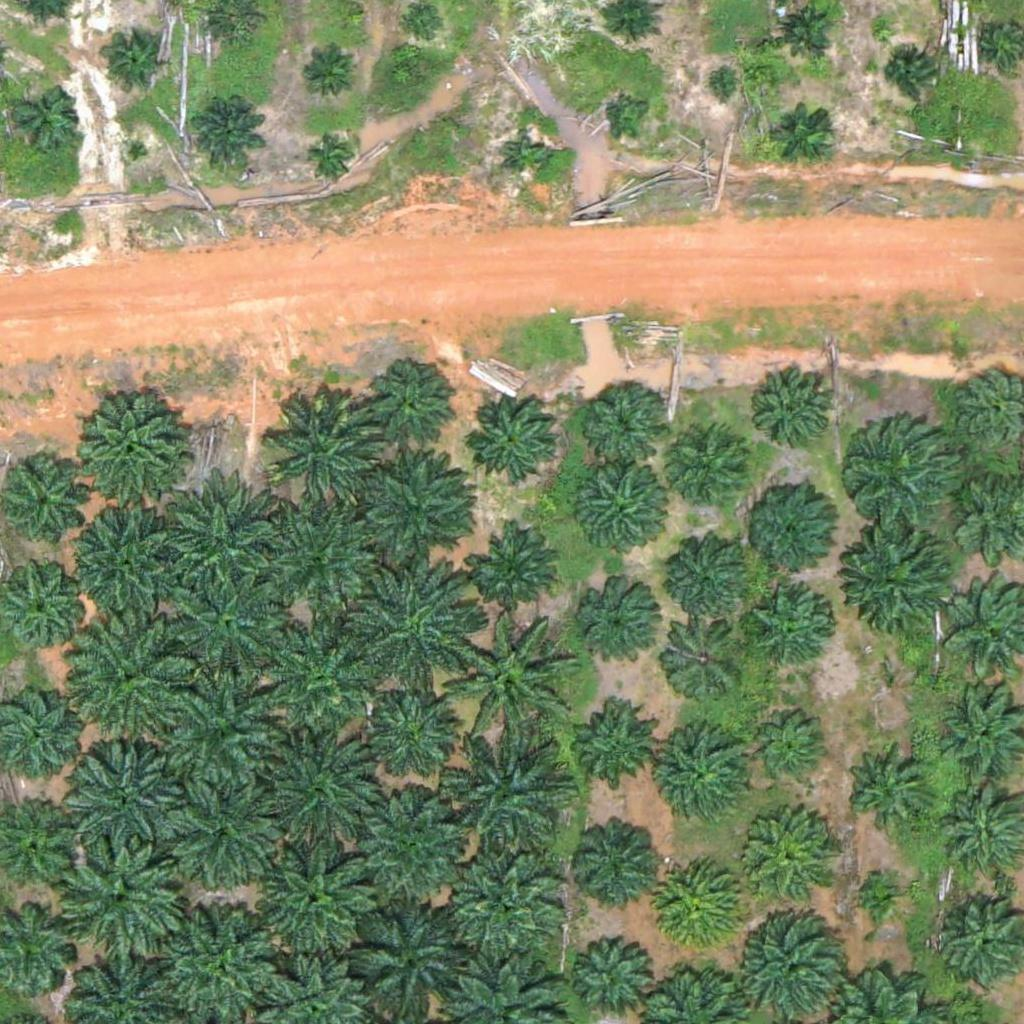Kelapa_Sawit: (264, 386, 389, 512), (256, 494, 381, 620), (261, 622, 386, 748), (261, 734, 386, 860), (255, 844, 380, 970), (162, 671, 287, 797), (167, 563, 292, 689), (161, 483, 286, 609), (65, 503, 190, 629), (64, 732, 189, 858), (60, 837, 185, 963), (346, 565, 471, 691), (346, 791, 471, 917), (446, 734, 571, 860), (443, 618, 568, 744), (840, 412, 965, 538), (159, 774, 284, 899), (76, 614, 201, 739), (350, 444, 475, 569), (441, 837, 566, 962), (70, 389, 183, 503), (852, 530, 952, 631), (656, 730, 756, 830), (371, 690, 459, 778), (574, 469, 662, 557), (579, 584, 667, 672), (567, 696, 655, 784), (571, 813, 659, 901), (657, 861, 745, 949), (743, 819, 831, 907), (471, 522, 558, 611), (745, 485, 832, 574), (577, 377, 664, 465), (664, 531, 751, 619), (2, 561, 89, 649), (1, 462, 88, 550), (368, 367, 455, 455), (466, 393, 553, 481), (570, 932, 657, 1020), (659, 612, 746, 700), (667, 423, 754, 511), (753, 366, 840, 454), (750, 593, 837, 681), (844, 743, 931, 831), (189, 94, 264, 170), (3, 81, 78, 157), (755, 709, 830, 784), (103, 30, 166, 93), (775, 101, 838, 164), (607, 89, 657, 140), (501, 131, 551, 182), (302, 51, 352, 101), (884, 51, 934, 101), (857, 868, 907, 918), (308, 132, 358, 182), (702, 67, 740, 105)
